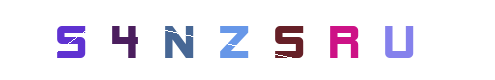4: (85, 0, 165, 80)
N: (136, 0, 216, 80)
R: (265, 0, 345, 80)
S: (31, 0, 111, 80), (249, 0, 329, 80)
U: (303, 0, 383, 80)
Z: (208, 0, 288, 80)
